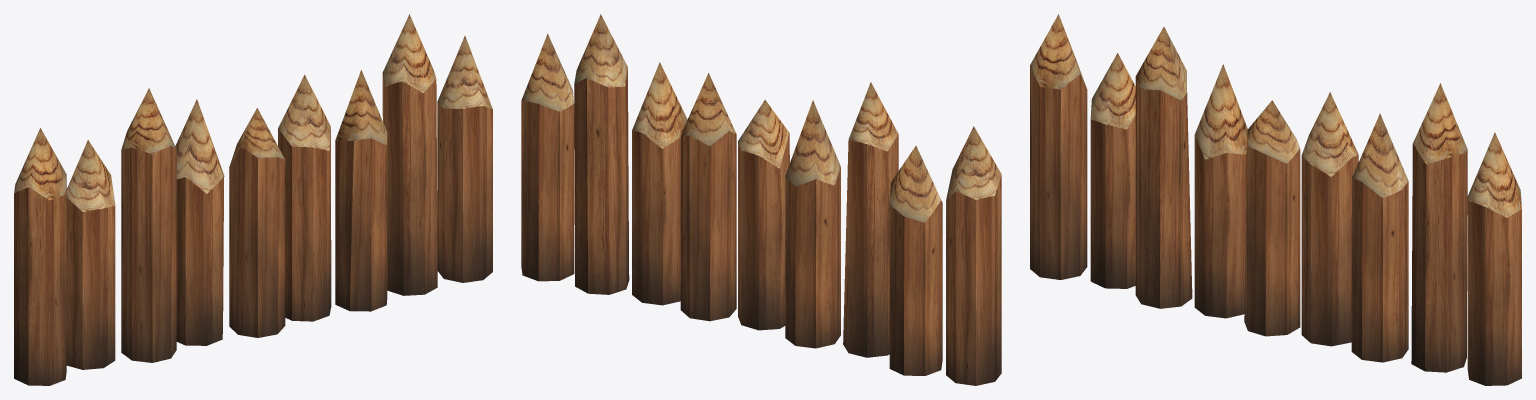
File: wooddoor.fbx
3 renders of one model, left to right at view 1: azimuth 30°, elevation 25°; view 2: azimuth 150°, elevation 25°; view 3: azimuth 330°, elevation 25°, orthographic. The views are drawn at different scales.
Parts seen in each view (by area): view 1: wall:pCylinder10; view 2: wall:pCylinder10; view 3: wall:pCylinder10.
Boxes of the visible parts, bbox=[...] form: wall:pCylinder10: bbox=[14, 14, 492, 385]; wall:pCylinder10: bbox=[521, 14, 1001, 385]; wall:pCylinder10: bbox=[1030, 14, 1521, 385].
Bounding box in the file's own units: 8.79 × 4.8 × 1.18.
